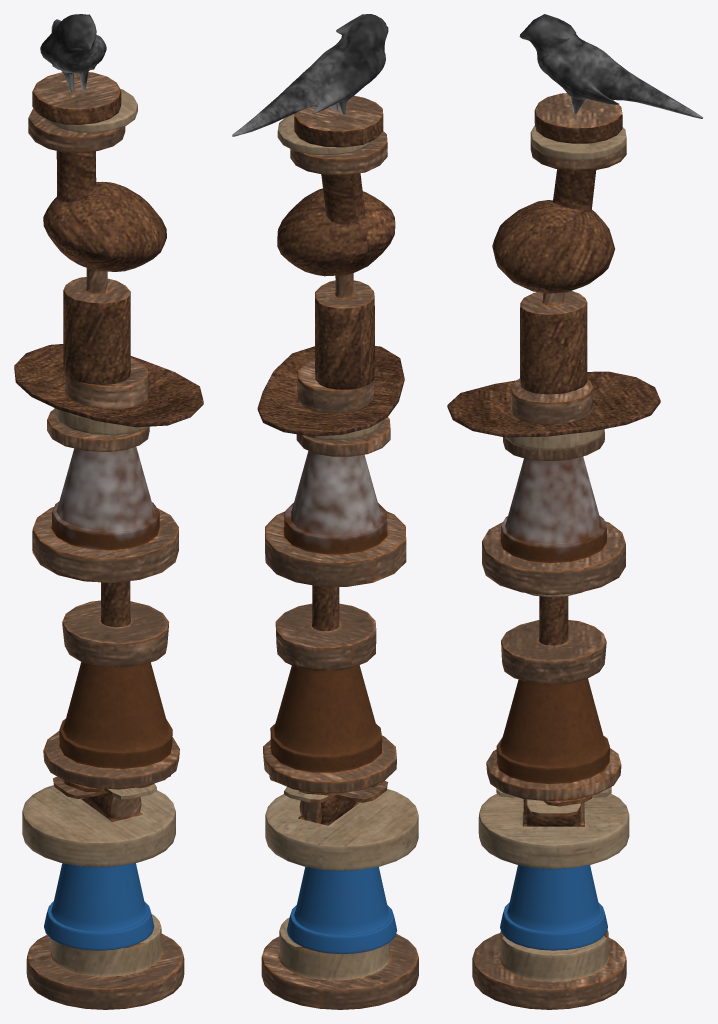
Rendered from matapfahl_new.FBX.
3 renders of one model, left to right at view 1: azimuth 30°, elevation 25°; view 2: azimuth 150°, elevation 25°; view 3: azimuth 270°, elevation 25°, orthographic. The views are drawn at different scales.
Visible parts, largest first — view 1: matapfahl; view 2: matapfahl; view 3: matapfahl.
Boxes of the visible parts, x1,y1,x2,y2 form: matapfahl: [14, 14, 203, 1009]; matapfahl: [232, 14, 418, 1009]; matapfahl: [447, 14, 703, 1009].
Bounding box in the file's own units: 18.13 × 118 × 28.89.
Materials: 1 (1 with a texture image).
